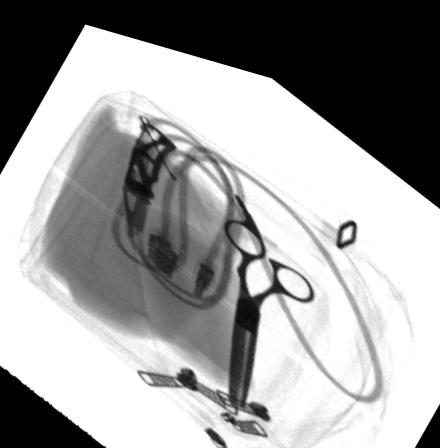Knife: (122, 114, 177, 233)
Scissors: (221, 180, 317, 397)
